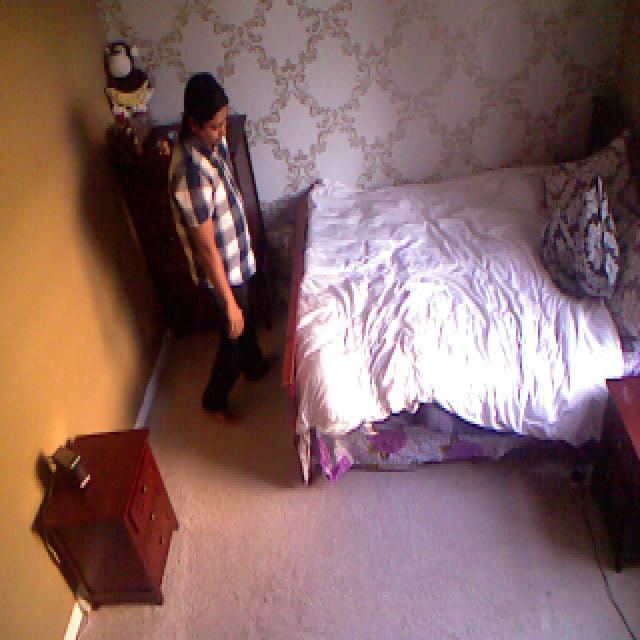standing: (166, 71, 280, 428)
